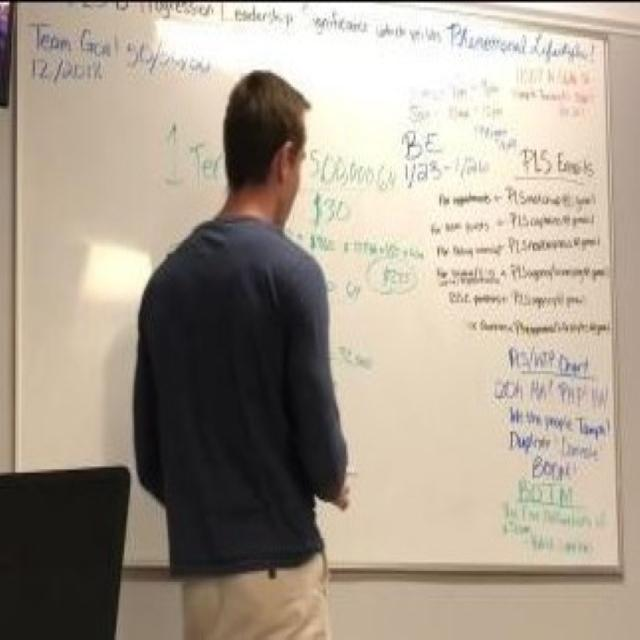Instructor: (132, 47, 344, 638)
White-board: (19, 8, 616, 577)
